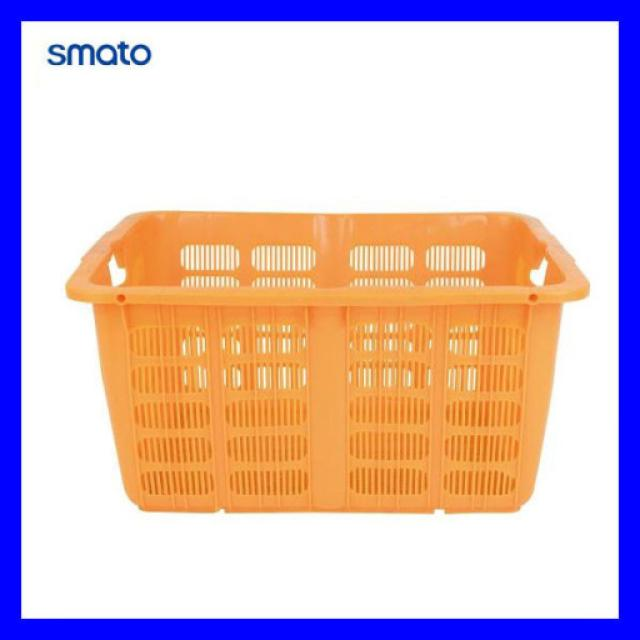basket: (66, 212, 590, 514)
